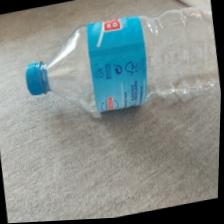plastic: (0, 0, 218, 126)
